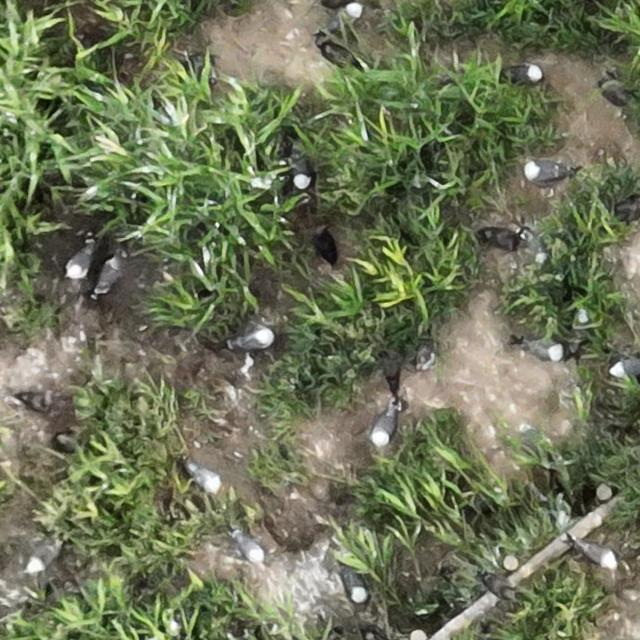umineko: (294, 142, 315, 192), (28, 541, 59, 571), (234, 326, 272, 348), (190, 465, 221, 491), (66, 245, 90, 278), (580, 544, 616, 566), (372, 410, 396, 443), (235, 533, 262, 562), (524, 341, 565, 360), (342, 573, 366, 602), (526, 161, 563, 179), (610, 358, 640, 377), (511, 63, 542, 81)
